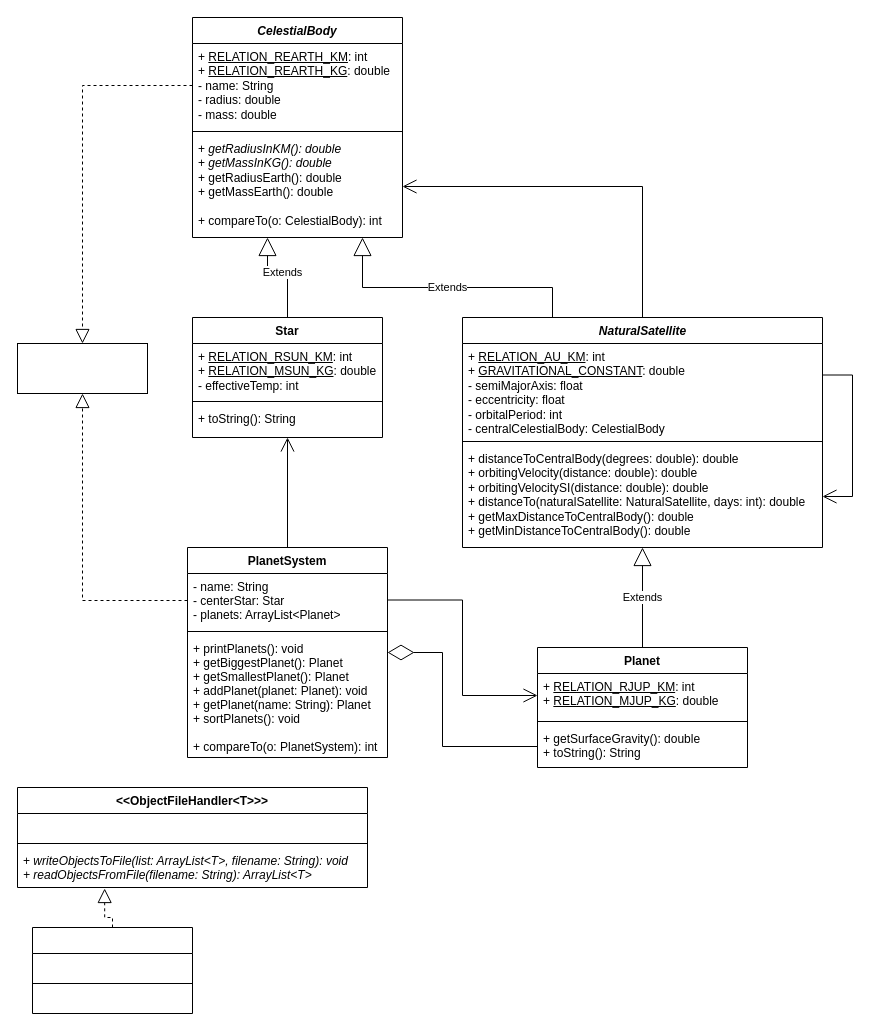
Image size: 884x1034. Some labels were removed from this diagram. Each missing label, with the centre of its shape:
"<<Comparable<T>>>" belongs at pixel 82 368.
"StarCSVFileHandler" belongs at pixel 112 970.
